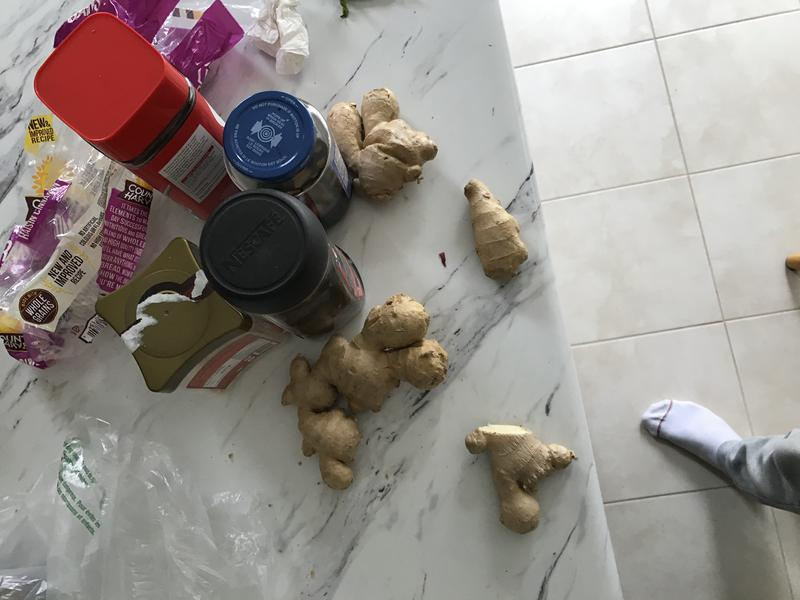ginger: (273, 286, 456, 508), (317, 82, 443, 209), (462, 415, 580, 532), (458, 170, 533, 285)
